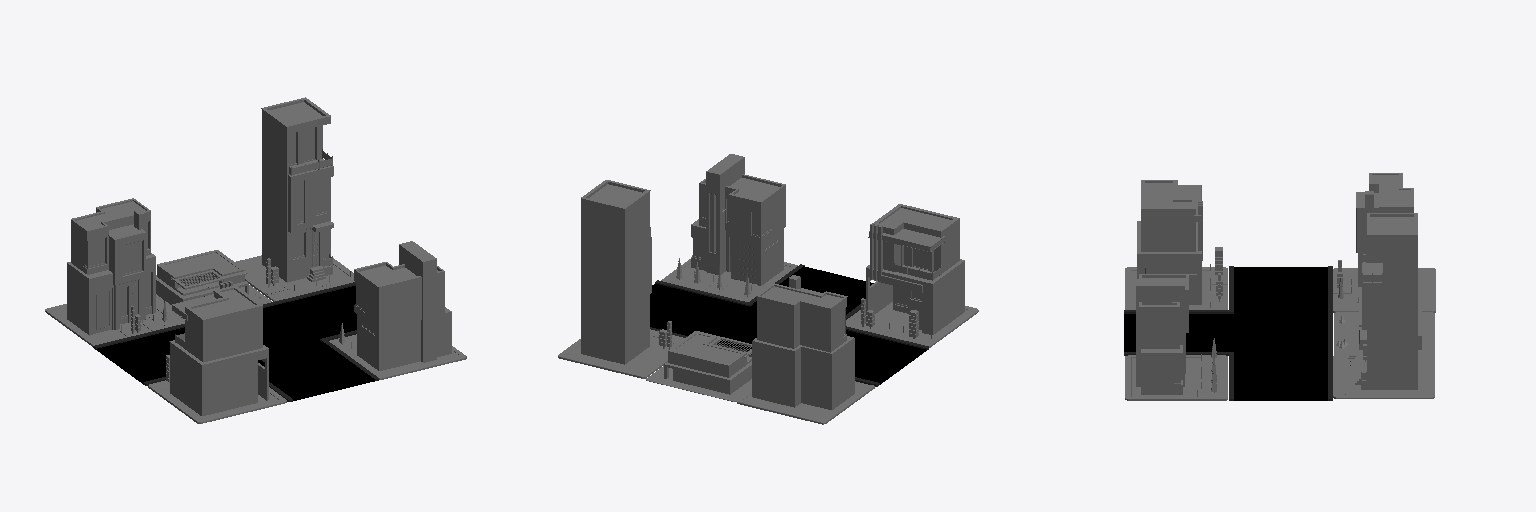
Rendered from road12.obj.
3 views of the same model, side by side, from view 1: azimuth 30°, elevation 25°; view 2: azimuth 150°, elevation 25°; view 3: azimuth 270°, elevation 25° (orthographic).
Visible parts, largest first — view 1: T_Intersection, Box437_Mesh_164, Box345_Mesh_313, Box335_Mesh_309, Box524_Mesh_122, Line017_Mesh_194, Box522_Mesh_120, Box523_Mesh_121, Object093_Mesh_304, Object141_Mesh_171, Object122_Mesh_199, Object127_Mesh_200 (+17 smaller); view 2: Box437_Mesh_164, T_Intersection, Line017_Mesh_194, Box422_Mesh_187, Box345_Mesh_313, Box523_Mesh_121, Box524_Mesh_122, Box335_Mesh_309, Rectangle007_Mesh_175, Object100_Mesh_311, Object088_Mesh_290, Object174_Mesh_127 (+18 smaller); view 3: T_Intersection, Box437_Mesh_164, Box335_Mesh_309, Box523_Mesh_121, Box522_Mesh_120, Box345_Mesh_313, Object276_Mesh_119, Rectangle007_Mesh_175, Line022_Mesh_129, Object122_Mesh_199, Object100_Mesh_311, Line020_Mesh_128 (+8 smaller).
Boxes of the visible parts, <box> form: T_Intersection: <box>93,282,378,401</box>; Box437_Mesh_164: <box>262,110,330,282</box>; Box345_Mesh_313: <box>169,340,268,415</box>; Box335_Mesh_309: <box>185,292,262,362</box>; Box524_Mesh_122: <box>354,270,444,329</box>; Line017_Mesh_194: <box>67,253,155,335</box>; Box522_Mesh_120: <box>379,307,451,370</box>; Box523_Mesh_121: <box>399,241,436,362</box>; Object093_Mesh_304: <box>213,361,257,413</box>; Object141_Mesh_171: <box>289,128,331,266</box>; Object122_Mesh_199: <box>71,198,150,240</box>; Object127_Mesh_200: <box>84,222,150,316</box>; Box437_Mesh_164: <box>581,192,649,364</box>; T_Intersection: <box>650,264,928,386</box>; Line017_Mesh_194: <box>752,336,854,409</box>; Box422_Mesh_187: <box>757,297,846,352</box>; Box345_Mesh_313: <box>866,259,964,334</box>; Box523_Mesh_121: <box>706,154,744,274</box>; Box524_Mesh_122: <box>729,185,785,244</box>; Box335_Mesh_309: <box>883,220,959,272</box>; Rectangle007_Mesh_175: <box>558,329,684,378</box>; Object100_Mesh_311: <box>874,204,959,232</box>; Object088_Mesh_290: <box>668,331,745,365</box>; Object174_Mesh_127: <box>731,229,783,285</box>; T_Intersection: <box>1124,266,1332,400</box>; Box437_Mesh_164: <box>1367,235,1417,389</box>; Box335_Mesh_309: <box>1141,210,1195,251</box>; Box523_Mesh_121: <box>1136,279,1184,386</box>; Box522_Mesh_120: <box>1141,345,1182,394</box>; Box345_Mesh_313: <box>1137,221,1201,304</box>; Object276_Mesh_119: <box>1140,307,1179,348</box>; Rectangle007_Mesh_175: <box>1333,355,1434,398</box>; Line022_Mesh_129: <box>1125,355,1227,400</box>; Object122_Mesh_199: <box>1356,173,1413,207</box>; Object100_Mesh_311: <box>1141,180,1195,209</box>; Line020_Mesh_128: <box>1132,358,1227,396</box>.
Bounding box in the file's own units: 20.13 × 11.22 × 19.98.